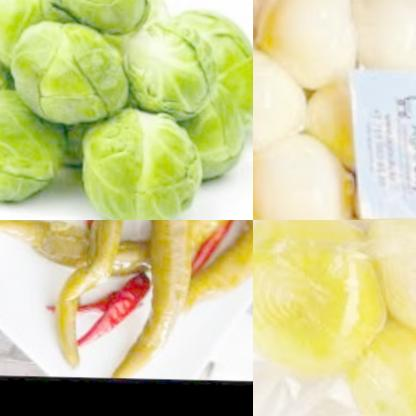brus capusta: (0, 0, 253, 220)
hot pepper: (0, 220, 253, 285), (104, 220, 208, 378), (170, 220, 253, 331), (62, 280, 159, 365), (54, 220, 131, 253)
onion: (253, 1, 416, 220), (253, 220, 378, 375), (359, 220, 416, 361), (332, 323, 416, 416)
